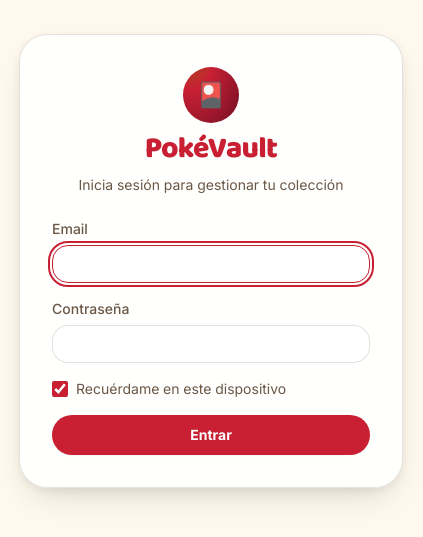
App — puerta de login › con contraseña incorrecta, muestra el error y no entra
The width and height of the screenshot is (423, 537).
Type "jadueno@example.com" into the field labelled "Email" at (211, 264), box [52,245,370,283]
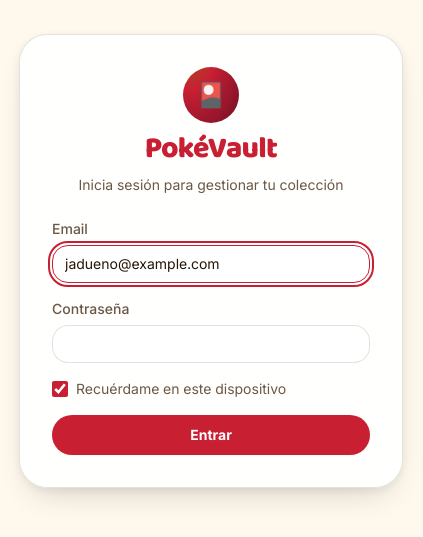
Type "mal" into the password field labelled "Contraseña" at (211, 344), box [52,325,370,363]
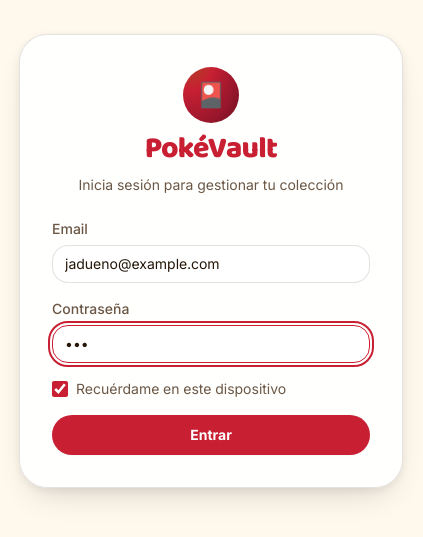
Click the button "Entrar" at (211, 435), box [52,415,370,455]
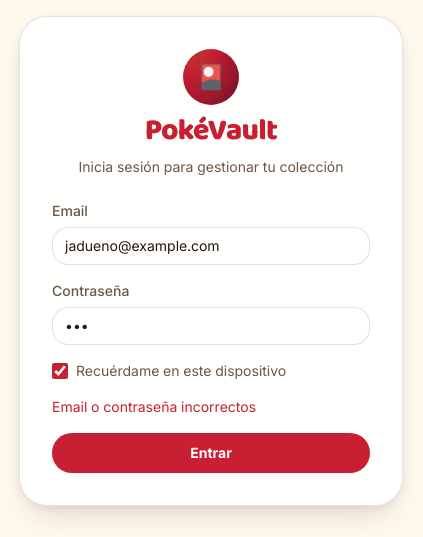
Expected: the text "Email o contraseña incorrectos" is shown, [52,398,256,415]
